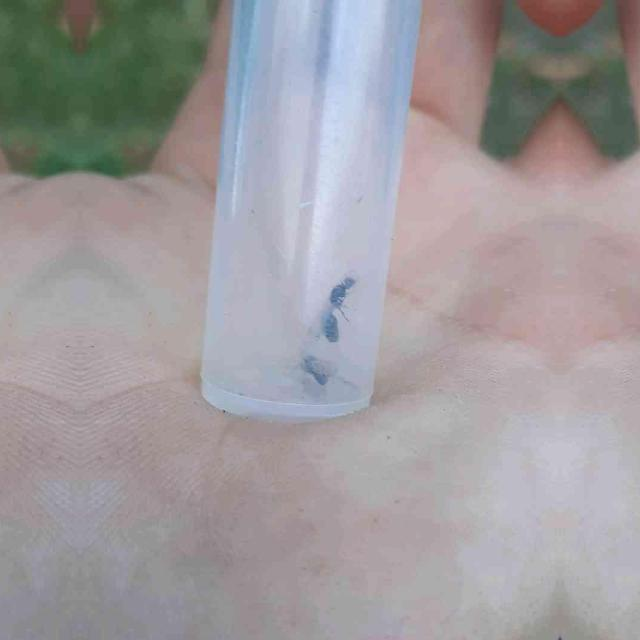Tetramorium: (298, 268, 364, 344)
